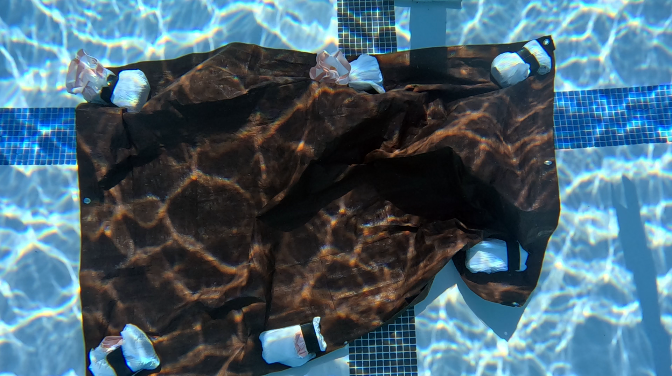sandbag: (65, 35, 558, 374)
